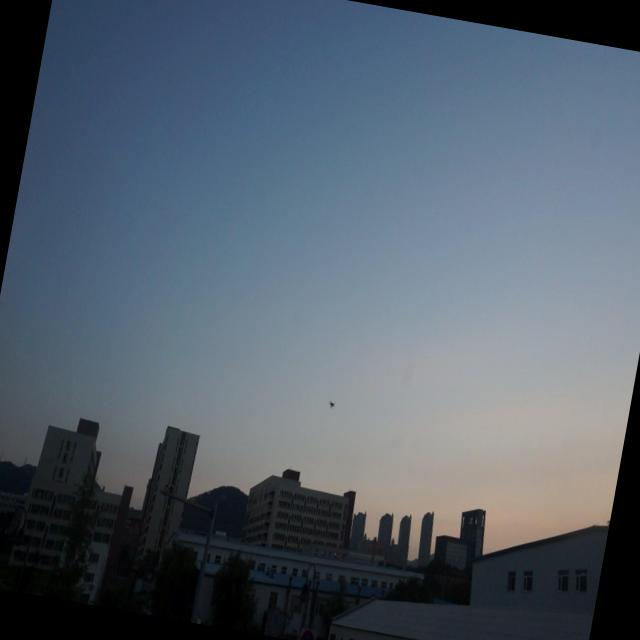drone: (323, 395, 338, 412)
